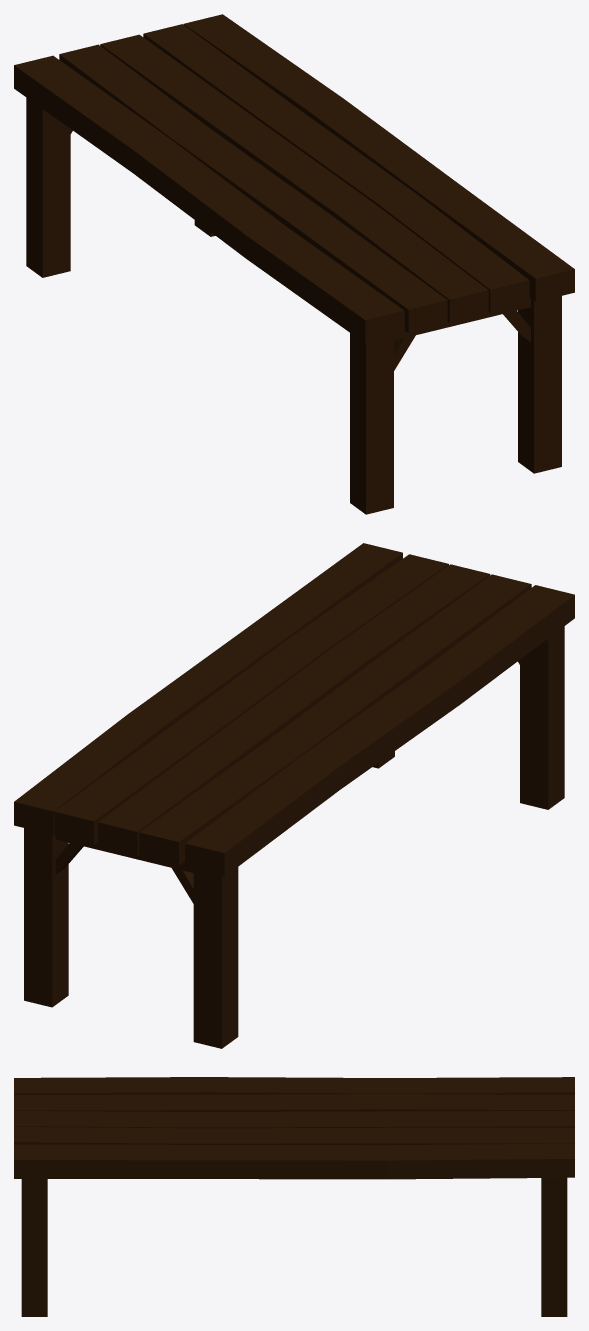
Rendered from Table.glb.
The picture shows the model from 3 angles, top to bottom: view 1: azimuth 30°, elevation 25°; view 2: azimuth 150°, elevation 25°; view 3: azimuth 270°, elevation 25°; orthographic projection. The views are drawn at different scales.
Visible parts, largest first — view 1: Table; view 2: Table; view 3: Table.
Boxes of the visible parts, x1,y1,x2,y2 form: Table: [14, 14, 574, 514]; Table: [14, 543, 574, 1048]; Table: [14, 1077, 574, 1316].
Bounding box in the file's own units: 0.7614 × 0.68 × 2.16.
